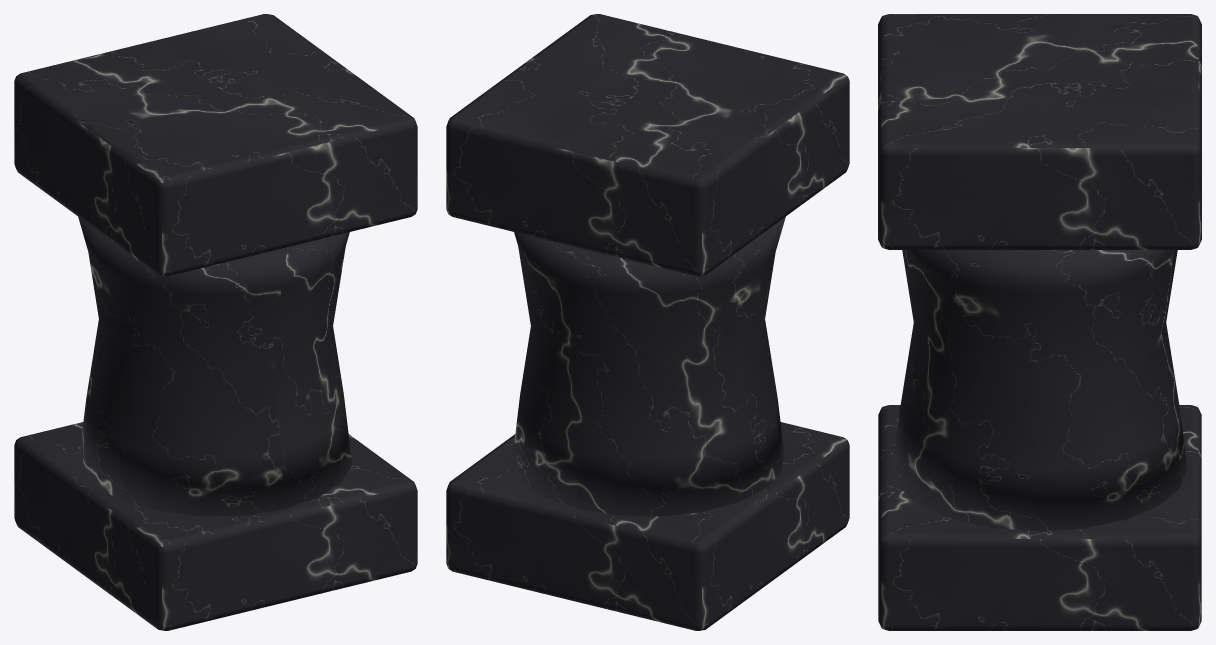
The model's file is pillar.glb.
3 views of the same model, side by side, from view 1: azimuth 30°, elevation 25°; view 2: azimuth 150°, elevation 25°; view 3: azimuth 270°, elevation 25° (orthographic). The views are drawn at different scales.
Visible parts, largest first — view 1: pillar; view 2: pillar; view 3: pillar.
Boxes of the visible parts, box(x1,y1,x2,y2) form: pillar: box(14, 14, 417, 630); pillar: box(446, 14, 849, 630); pillar: box(878, 14, 1201, 630).
Bounding box in the file's own units: 0.6005 × 1 × 0.6005.
1 material, 1 textured.
